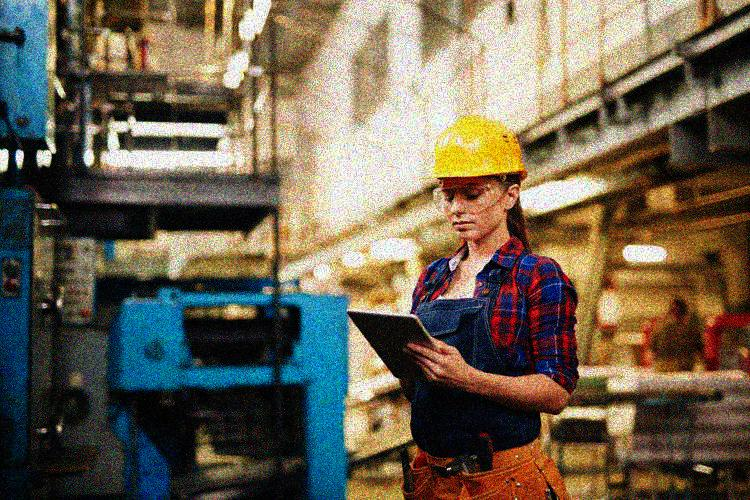helmet: (425, 112, 527, 242), (666, 295, 690, 324)
